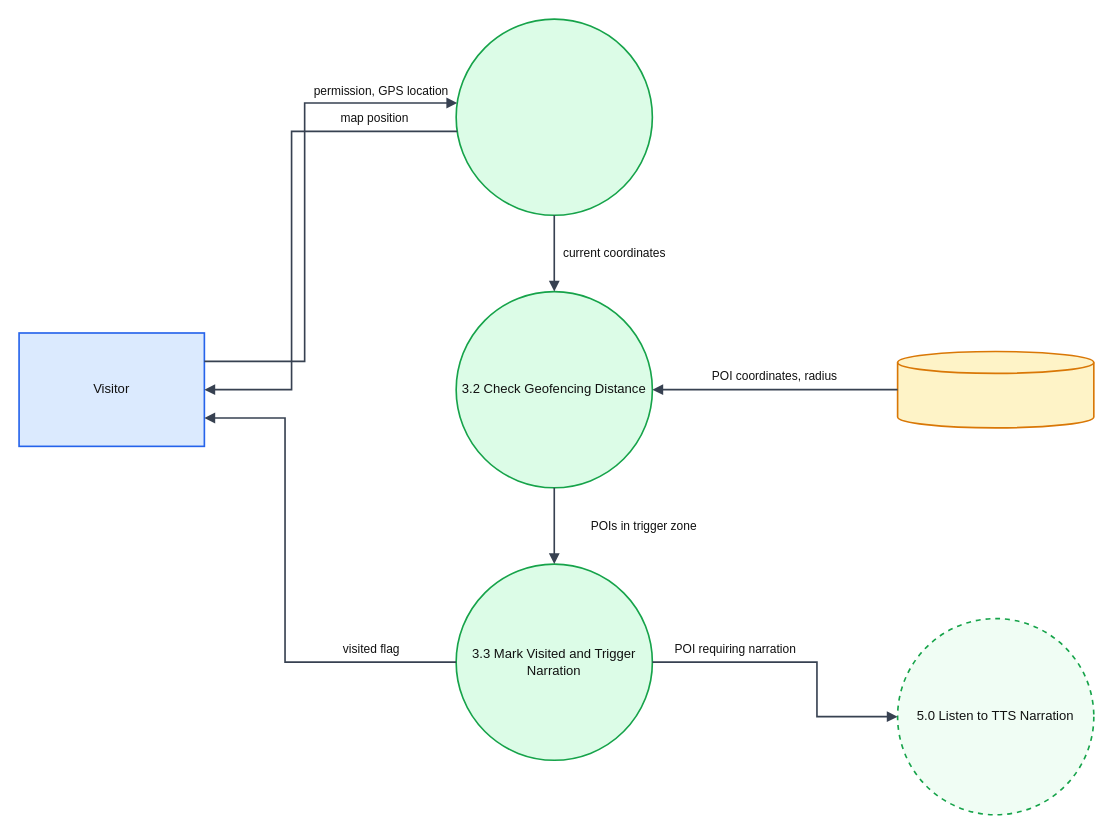
This 1114x835 diagram has some shape labels left out. Here are the shapes that lost their labels. From the top down, the centre of each, then its label:
(554,117): 3.1 Track GPS Location
(995,389): D1 POI
